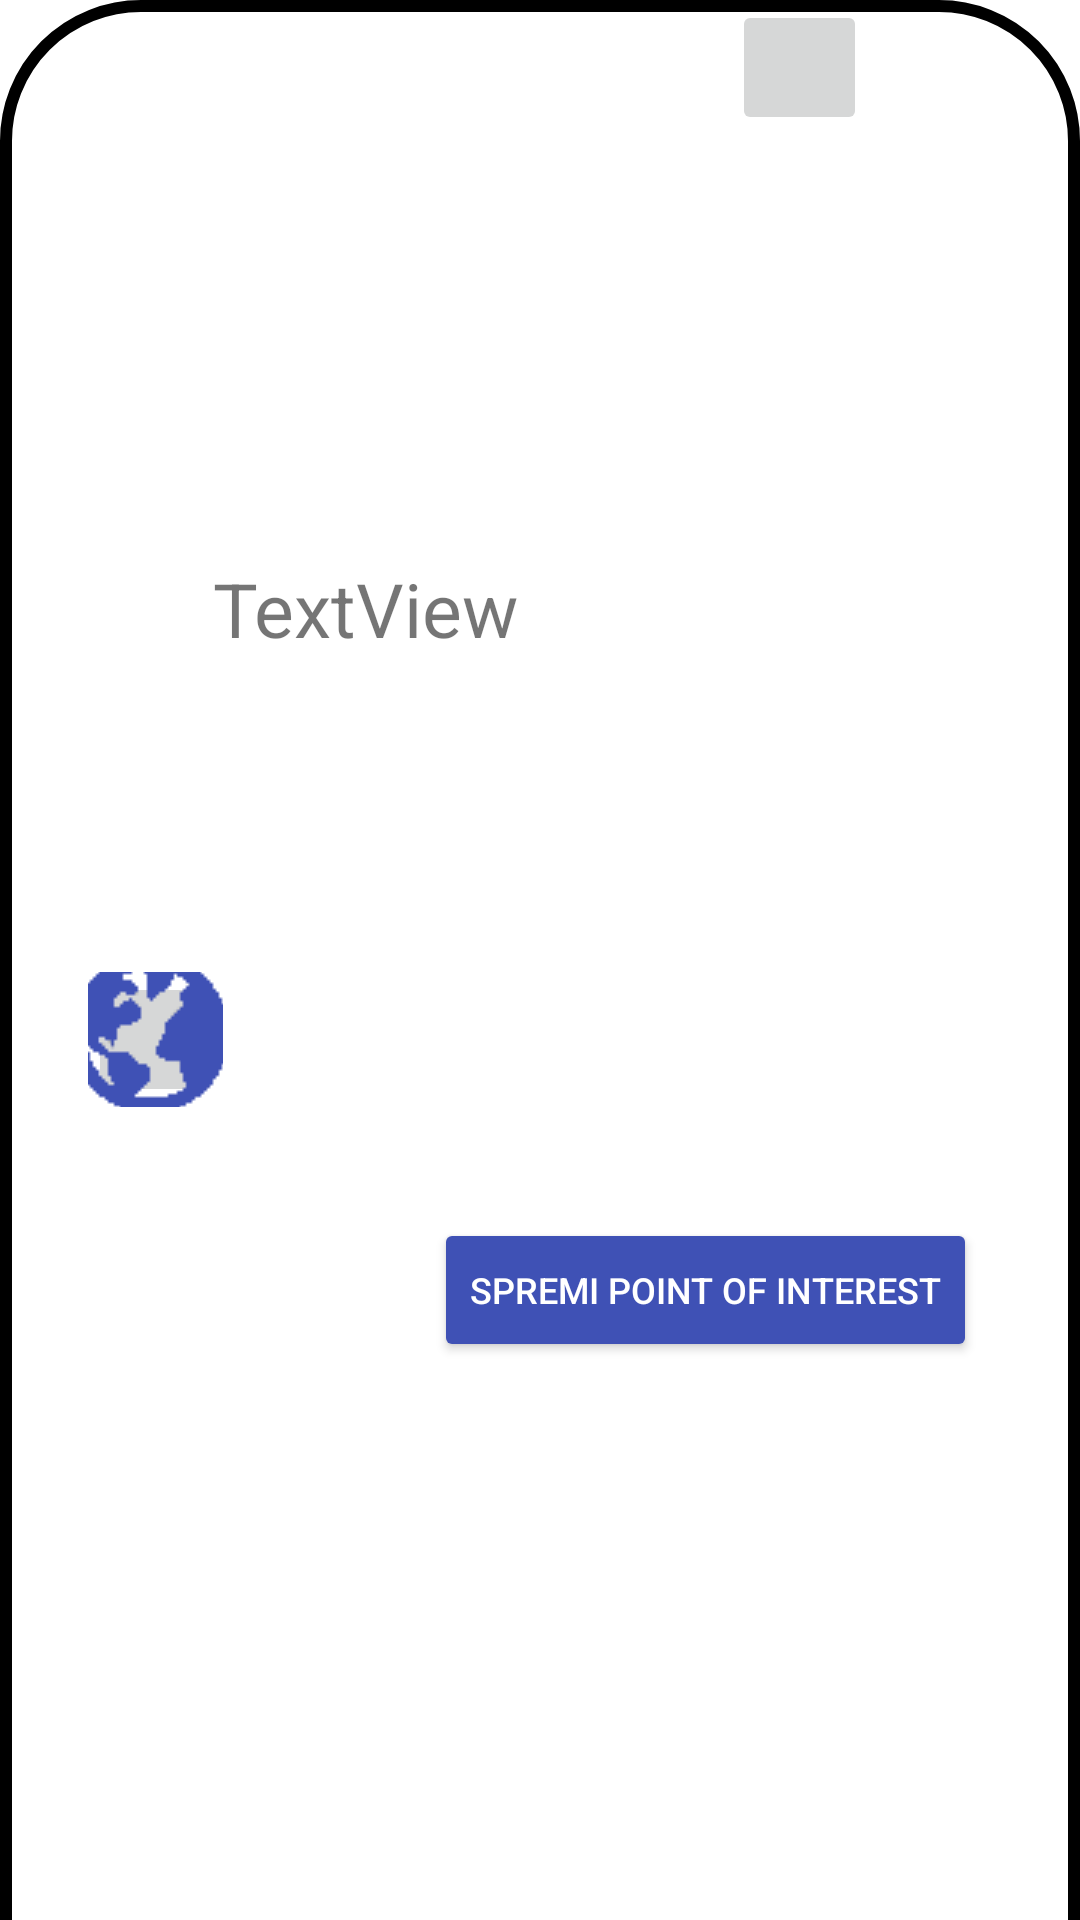

Named icons in this screenshot (1080px x 1920px) and their centers, (x,y):
globe: (155,1039)
